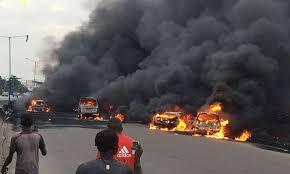fire: (149, 99, 230, 139), (24, 96, 49, 113), (231, 126, 252, 142), (78, 112, 105, 121), (81, 99, 95, 106), (112, 113, 123, 120)
